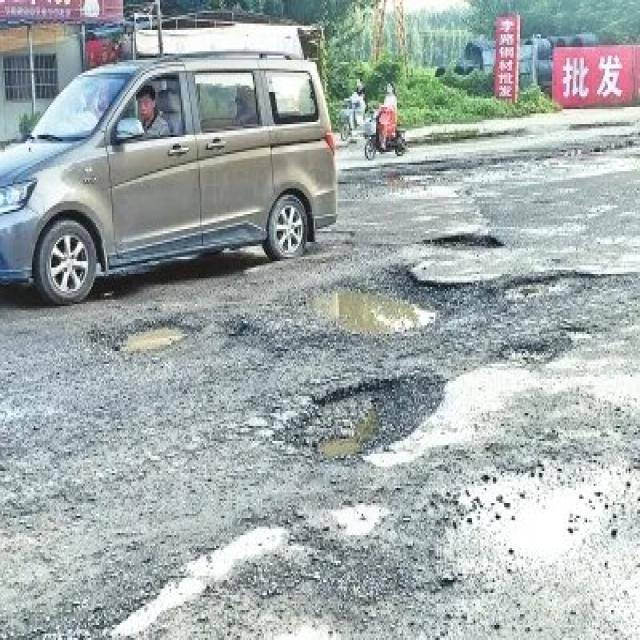Pothole: (278, 366, 431, 467), (294, 278, 446, 342), (107, 315, 216, 366), (426, 225, 507, 257), (499, 336, 558, 370)
